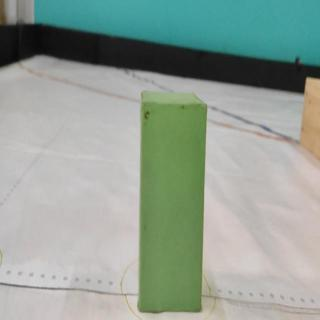greenbox: (135, 87, 209, 313)
